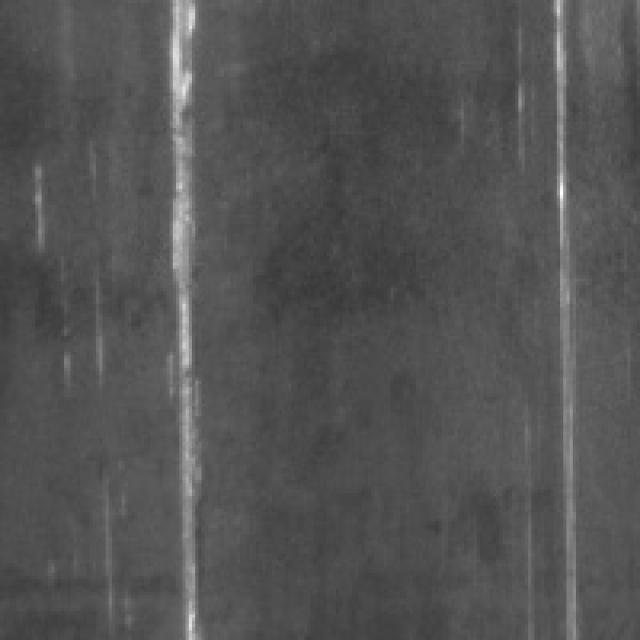scratches: (160, 0, 218, 637), (550, 0, 592, 637)
